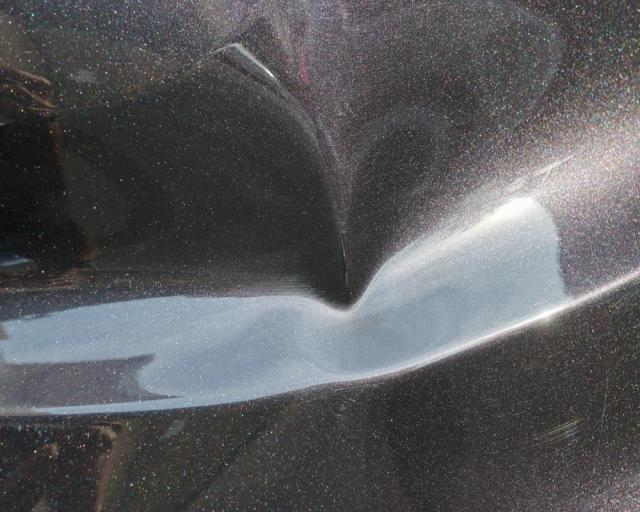dent: (54, 52, 503, 377)
